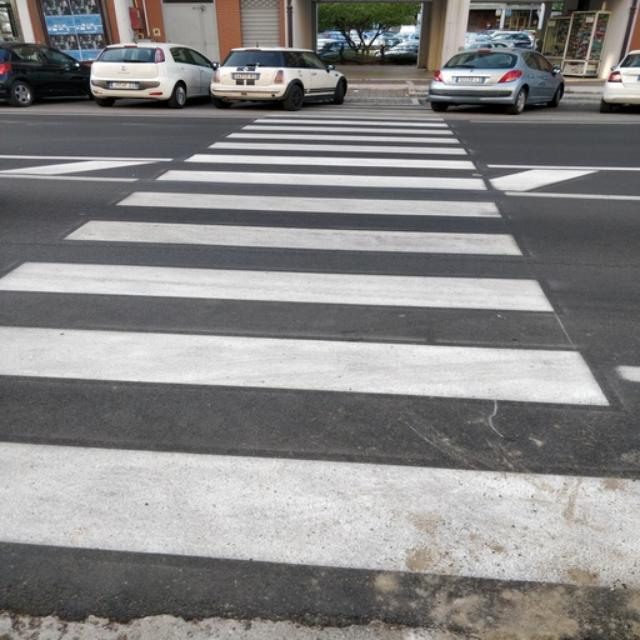sidewalk: (2, 113, 640, 594)
